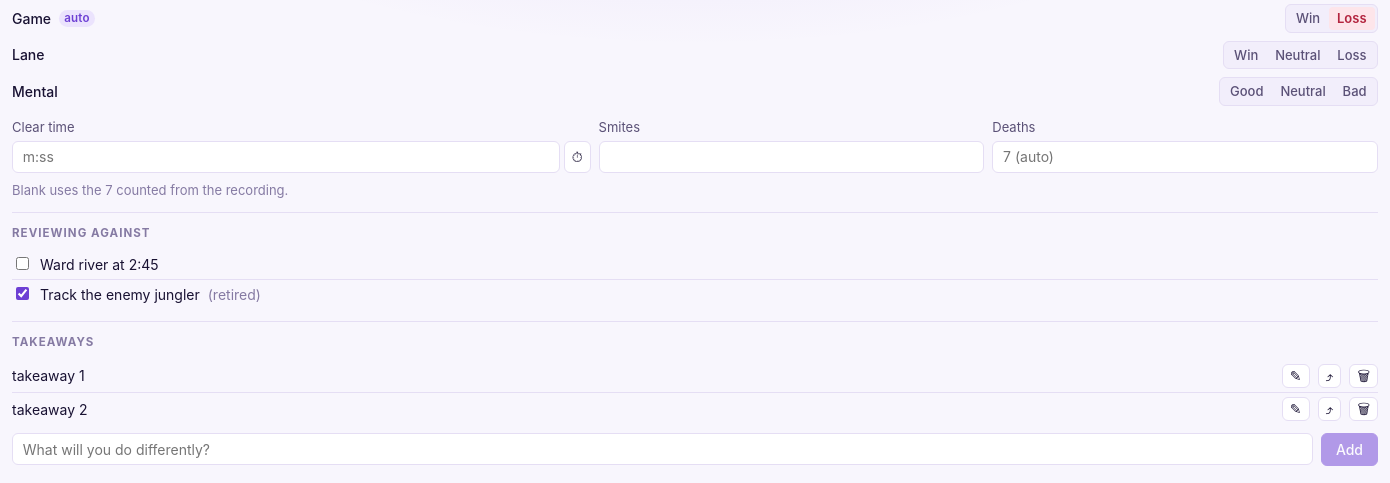
Scenario: takeaways › deletes one
This screenshot has width=1390, height=483.
Click the button named "Delete takeaway".
click(1364, 376)  # box [1349, 364, 1378, 388]
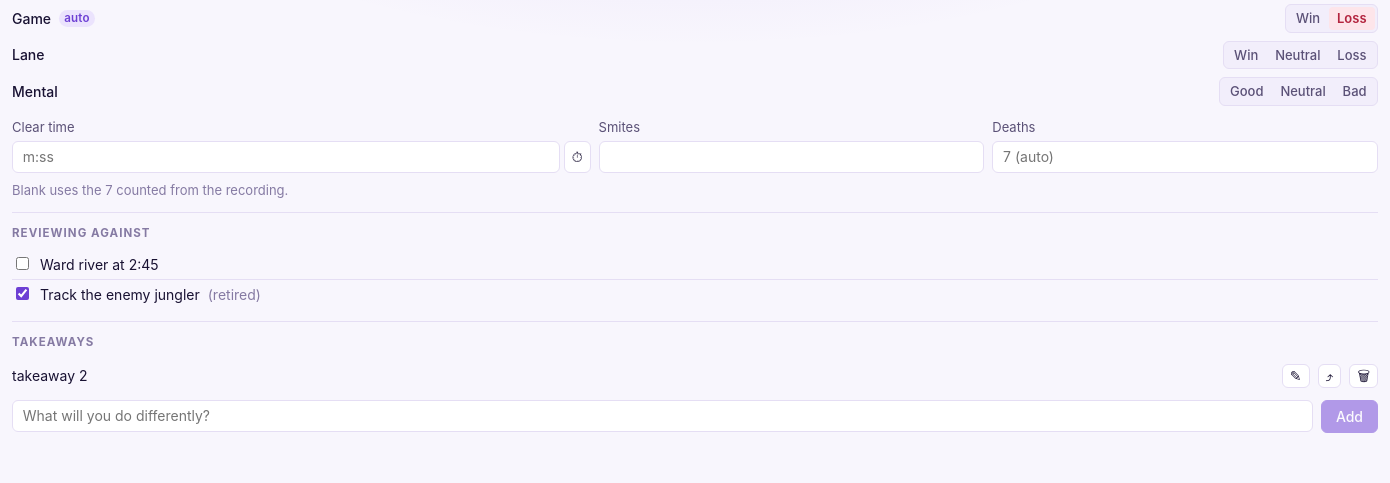
expect the number of elements with class "takeaway-body" is 1: met, box [12, 367, 88, 384]
